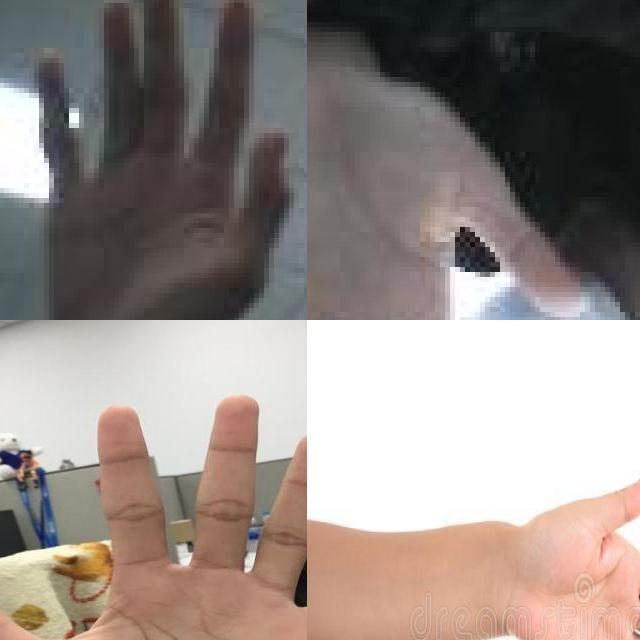no-gloves: (24, 0, 304, 320), (0, 397, 307, 640), (307, 62, 590, 320), (497, 467, 640, 640)
